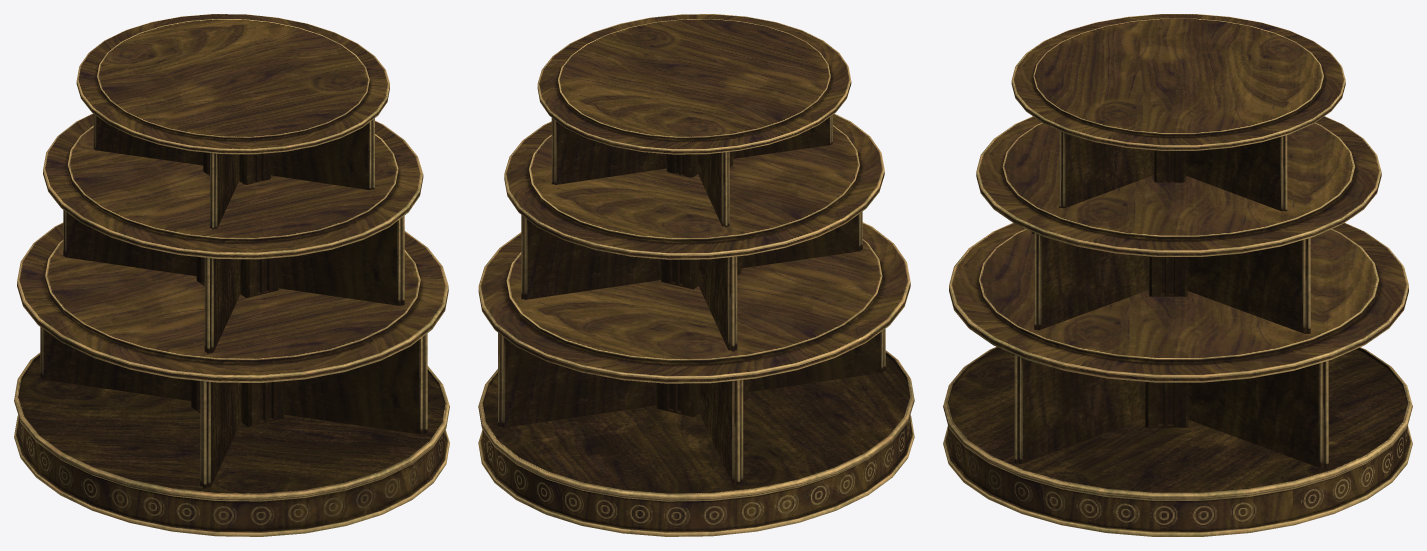
Rendered from SM_FoodStand_3S.fbx.
3 views of the same model, side by side, from view 1: azimuth 30°, elevation 25°; view 2: azimuth 150°, elevation 25°; view 3: azimuth 270°, elevation 25° (orthographic).
Visible parts, largest first — view 1: SM_FoodStand_3S_LOD0; view 2: SM_FoodStand_3S_LOD0; view 3: SM_FoodStand_3S_LOD0.
Boxes of the visible parts, left/top/right/bottom form: SM_FoodStand_3S_LOD0: left=14, top=14, right=449, bottom=536; SM_FoodStand_3S_LOD0: left=478, top=14, right=914, bottom=536; SM_FoodStand_3S_LOD0: left=943, top=14, right=1412, bottom=536.
Size of the model in its own units: 51.49 by 55.71 by 48.61.
Materials: 1 (1 with a texture image).
